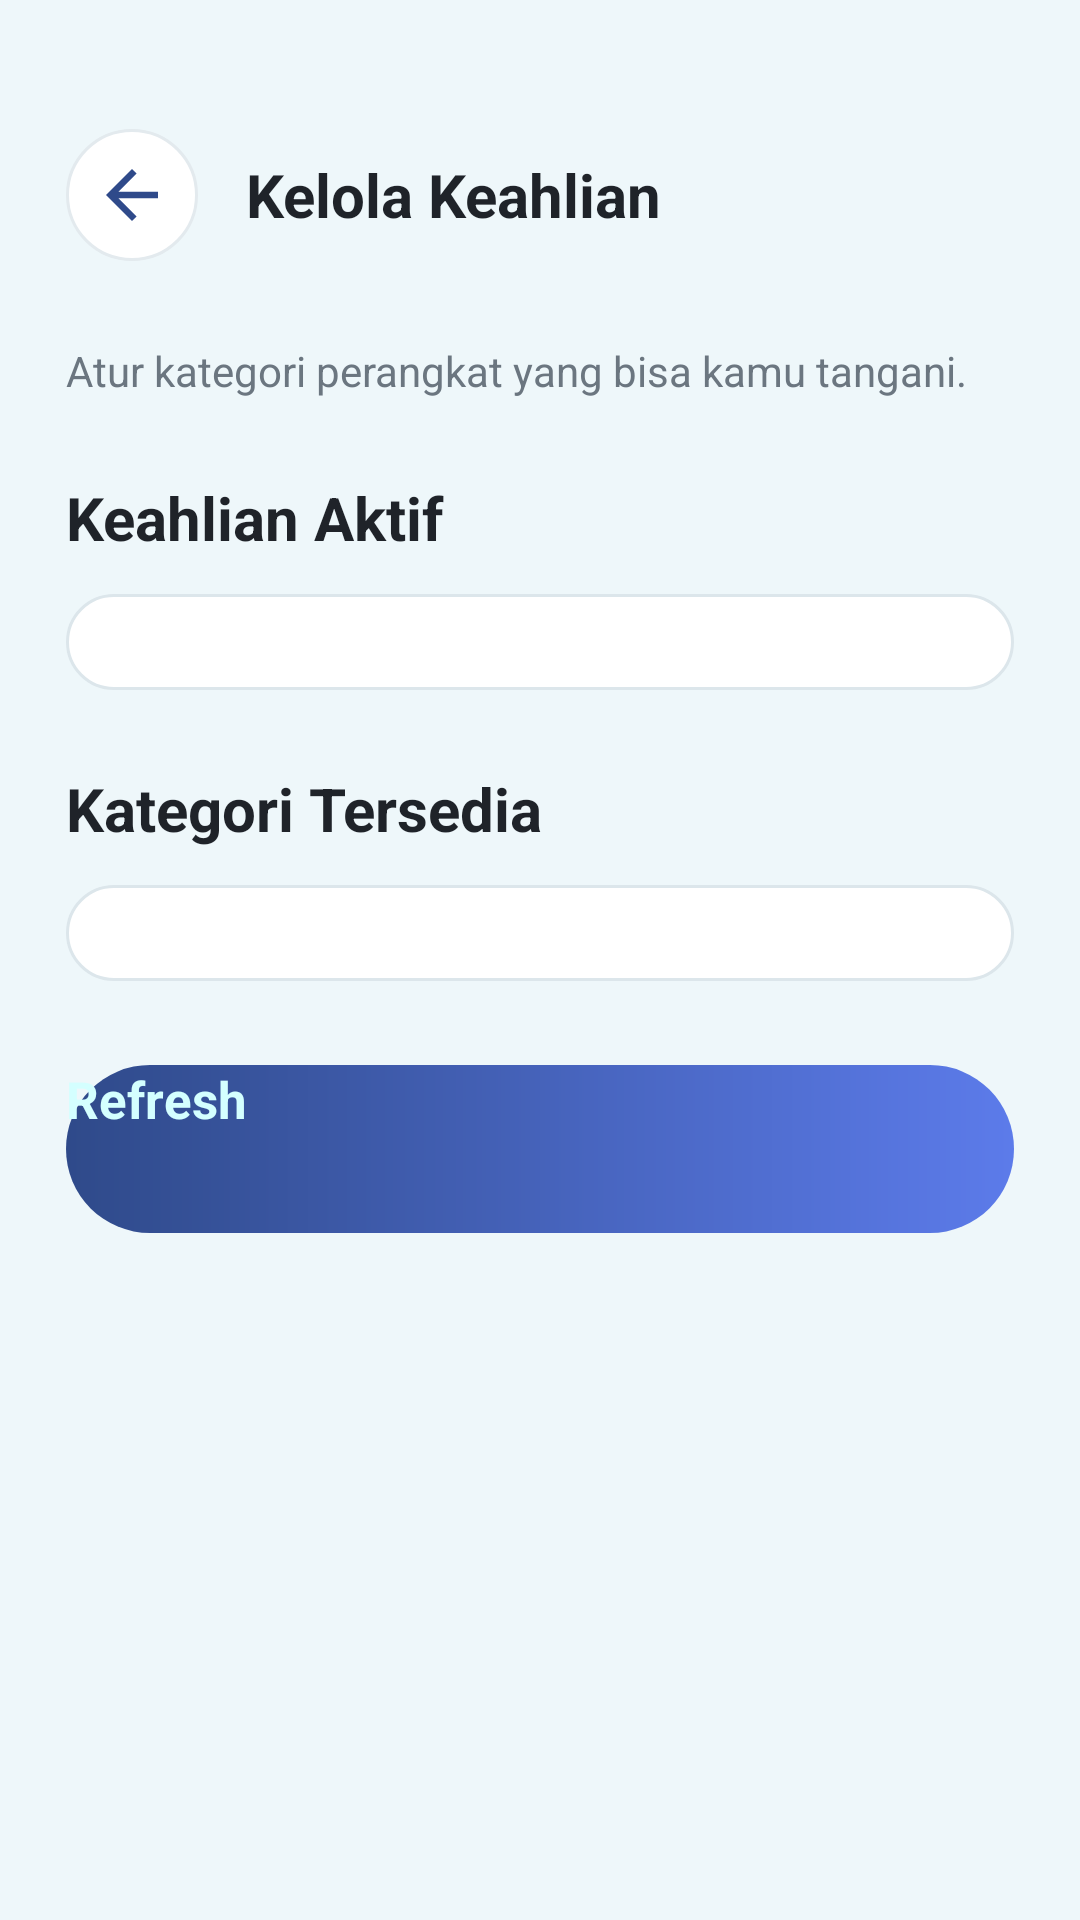

Screen size 1080px×1920px. Icon name, then its box in pixels as (x1, y1, x2, y2):
back: (106, 169, 158, 221)
